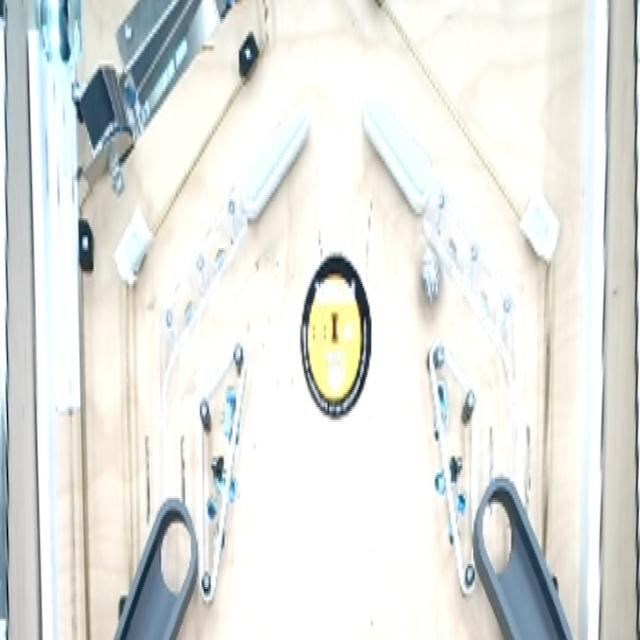ball: (415, 231, 446, 321)
flipper-left: (359, 89, 435, 221)
flipper-right: (236, 104, 313, 228)
